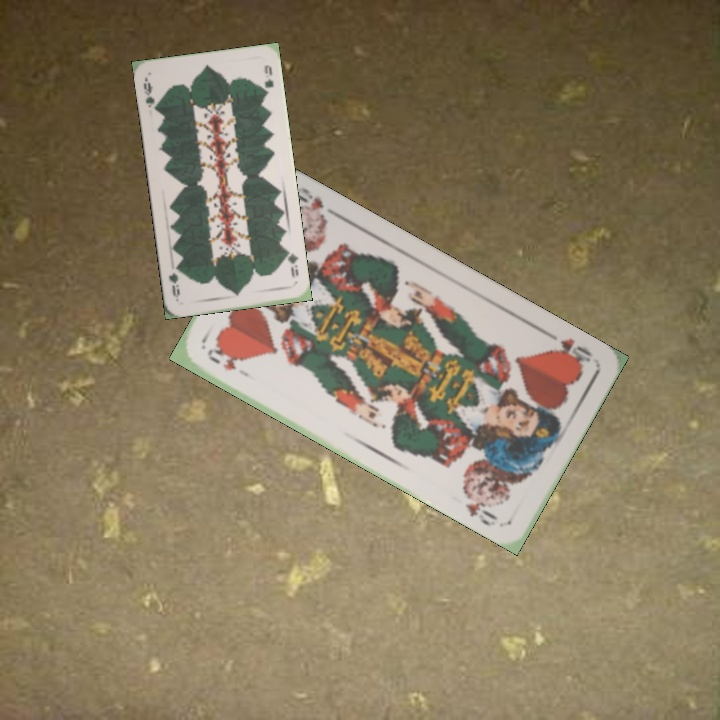G9: (281, 246, 301, 279), (139, 79, 157, 110)
HO: (543, 328, 596, 369), (202, 344, 252, 380)
